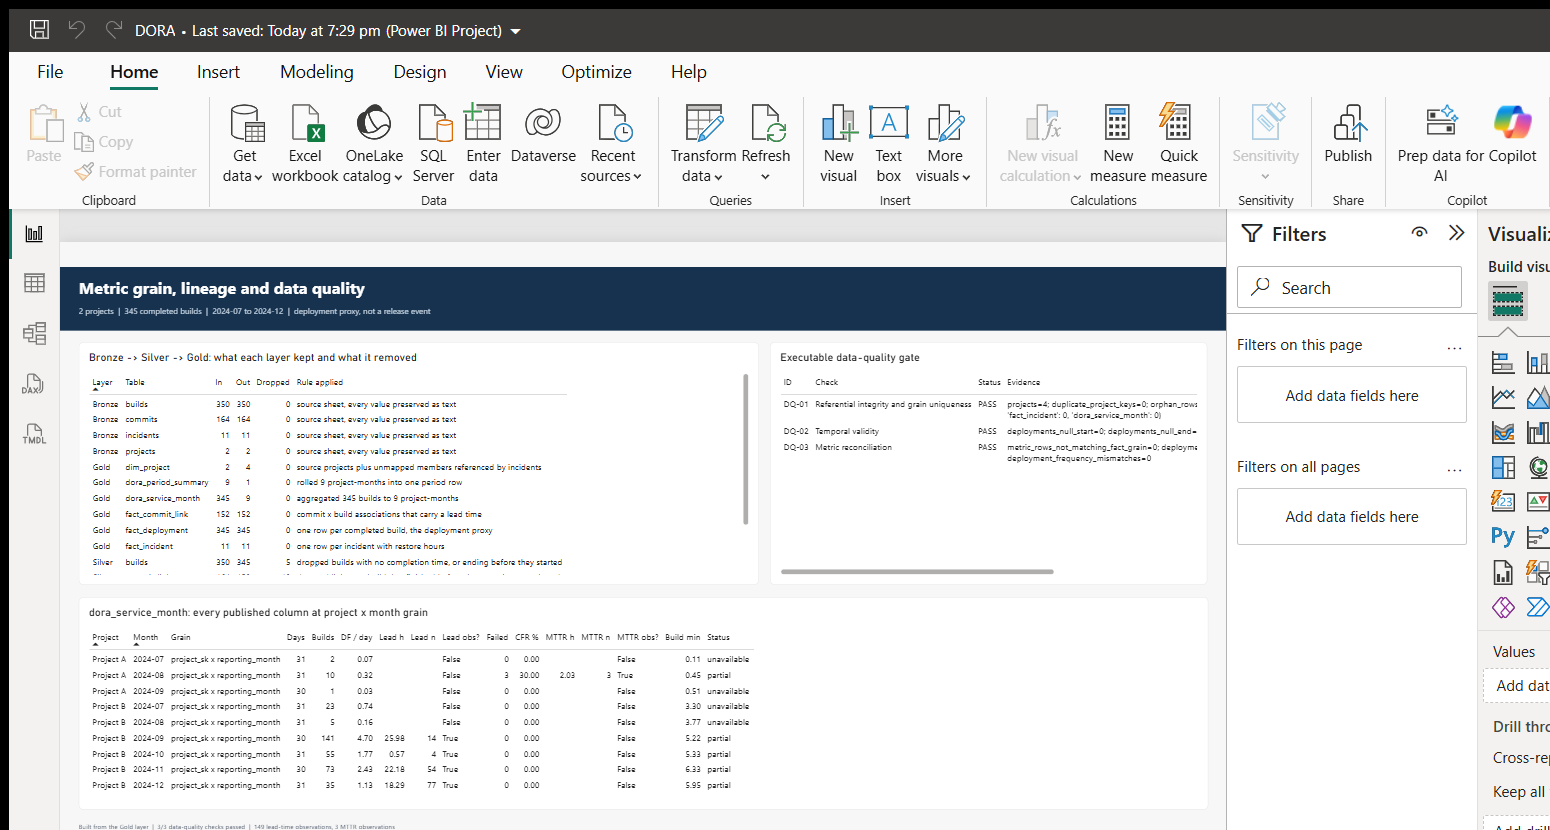

The dashboard page shown, as its layout file describes it:
{"tool":"powerbi","page":{"name":"Grain, lineage & quality","canvas":[1920,1080],"ordinal":1},"visuals":[{"type":"textbox","box":[0,0,1920,105],"z":0},{"type":"textbox","box":[30,16,1500,46],"z":1},{"type":"textbox","box":[30,62,1860,34],"z":2},{"type":"tableEx","title":"Bronze -> Silver -> Gold: what each layer kept and what it removed","fields":{"Values":["PipelineLineage.layer","PipelineLineage.table_name","PipelineLineage.rows_in","PipelineLineage.rows_out","PipelineLineage.rows_dropped","PipelineLineage.rule"]},"box":[30,123,1120,400],"z":10},{"type":"tableEx","title":"Executable data-quality gate","fields":{"Values":["DqCheckResult.check_id","DqCheckResult.name","DqCheckResult.status","DqCheckResult.detail"]},"box":[1170,123,720,400],"z":11},{"type":"tableEx","title":"dora_service_month: every published column at project x month grain","fields":{"Values":["DoraServiceMonth.project_name","DoraServiceMonth.reporting_month","DoraServiceMonth.deployment_count","DoraServiceMonth.deployment_frequency_per_day","DoraServiceMonth.lead_time_median_hours","DoraServiceMonth.lead_time_sample_size","DoraServiceMonth.lead_time_status","DoraServiceMonth.failed_deployments","DoraServiceMonth.change_failure_rate_pct","DoraServiceMonth.mttr_median_hours","DoraServiceMonth.mttr_sample_size","DoraServiceMonth.mttr_status"]},"box":[30,543,1860,350],"z":20},{"type":"textbox","box":[30,909,1860,40],"z":24}]}

Visuals, with their boxes on the page's 1920x1080 design canvas (x1, y1, x2, y2). These are canvas units, not pixel positions in the 1550x830 screenshot, which may show the page scaled, cropped or inside an application window:
textbox: (x1=0, y1=0, x2=1920, y2=105)
textbox: (x1=30, y1=16, x2=1530, y2=62)
textbox: (x1=30, y1=62, x2=1890, y2=96)
"Bronze -> Silver -> Gold: what each layer kept and what it removed" tableEx: (x1=30, y1=123, x2=1150, y2=523)
"Executable data-quality gate" tableEx: (x1=1170, y1=123, x2=1890, y2=523)
"dora_service_month: every published column at project x month grain" tableEx: (x1=30, y1=543, x2=1890, y2=893)
textbox: (x1=30, y1=909, x2=1890, y2=949)
